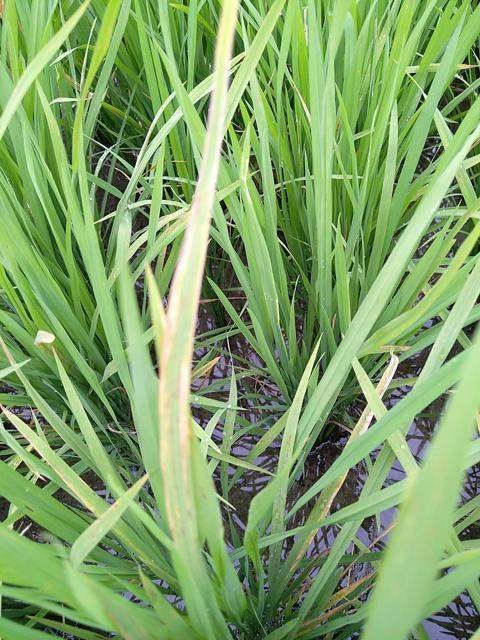Leaf Blight: (159, 0, 240, 639)
